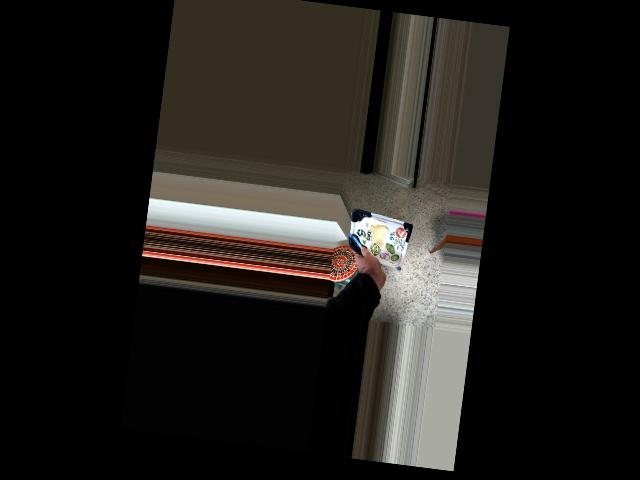cheese: (355, 225, 410, 280)
